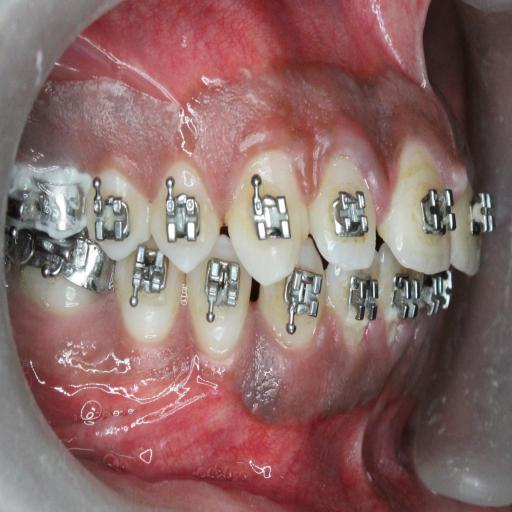correct_brace: (147, 166, 222, 280), (247, 184, 292, 246), (328, 186, 373, 242), (418, 179, 456, 239)
incorrect_brace: (306, 154, 378, 277), (164, 199, 203, 245)
